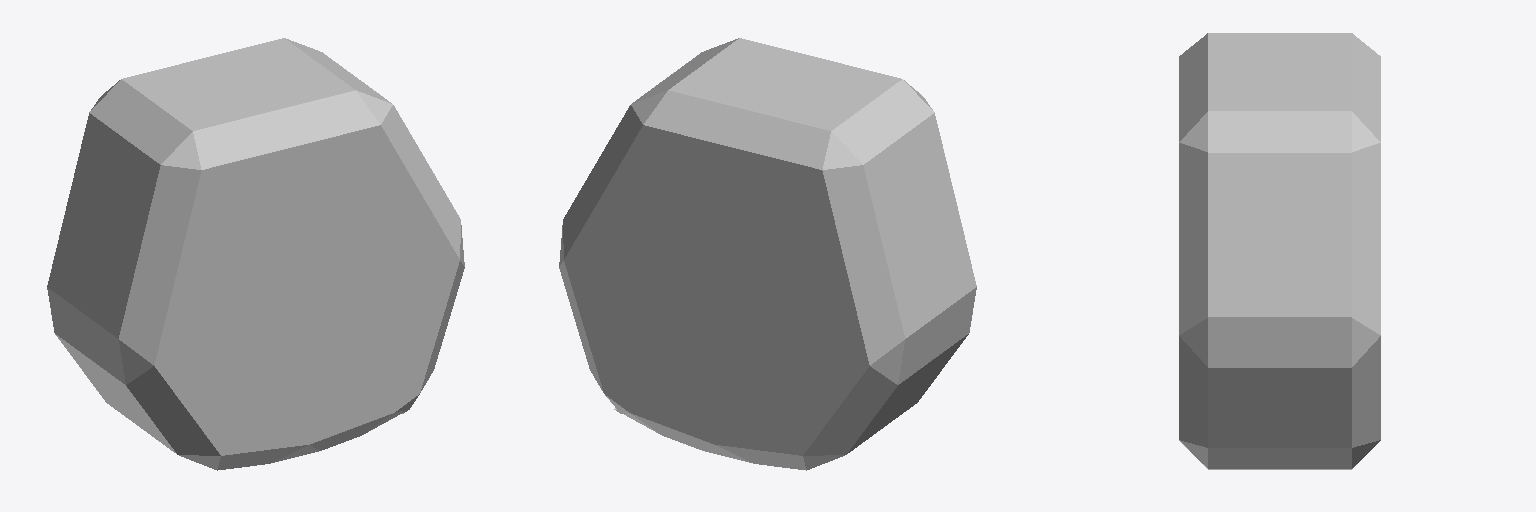
File: questionmarkdot.obj
3 renders of one model, left to right at view 1: azimuth 30°, elevation 25°; view 2: azimuth 150°, elevation 25°; view 3: azimuth 270°, elevation 25°, orthographic.
Parts seen in each view (by area): view 1: Plane.001_Plane.002; view 2: Plane.001_Plane.002; view 3: Plane.001_Plane.002.
Boxes of the visible parts, box(x1,y1,x2,y2) form: Plane.001_Plane.002: box(47, 38, 464, 470); Plane.001_Plane.002: box(559, 38, 976, 470); Plane.001_Plane.002: box(1179, 33, 1380, 469).
Size of the model in its own units: 0.5504 by 0.5356 by 0.2779.